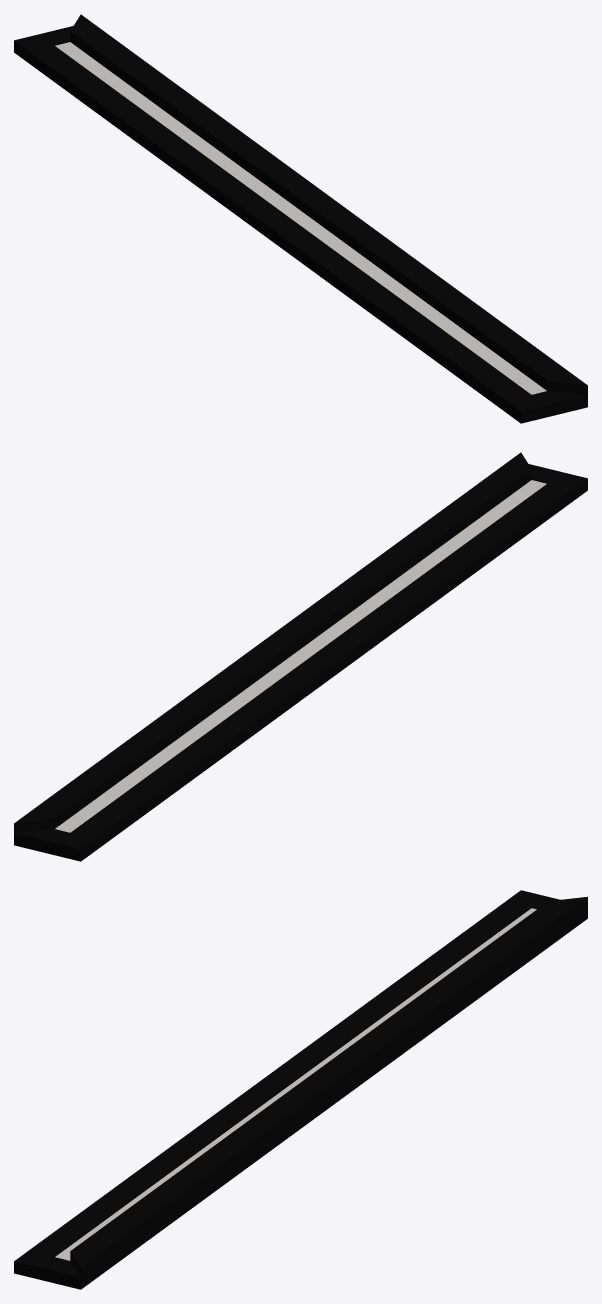
File: recessed_128.obj
3 renders of one model, top to bottom at view 1: azimuth 30°, elevation 25°; view 2: azimuth 150°, elevation 25°; view 3: azimuth 330°, elevation 25°, orthographic.
Visible parts, largest first — view 1: Plane.006; view 2: Plane.006; view 3: Plane.006.
Part boxes in pixels (x1,y1,x2,y2): Plane.006: (14, 14, 587, 423); Plane.006: (14, 452, 587, 861); Plane.006: (14, 890, 587, 1289).
Bounding box in the file's own units: 0.16 × 0.05 × 2.1.
